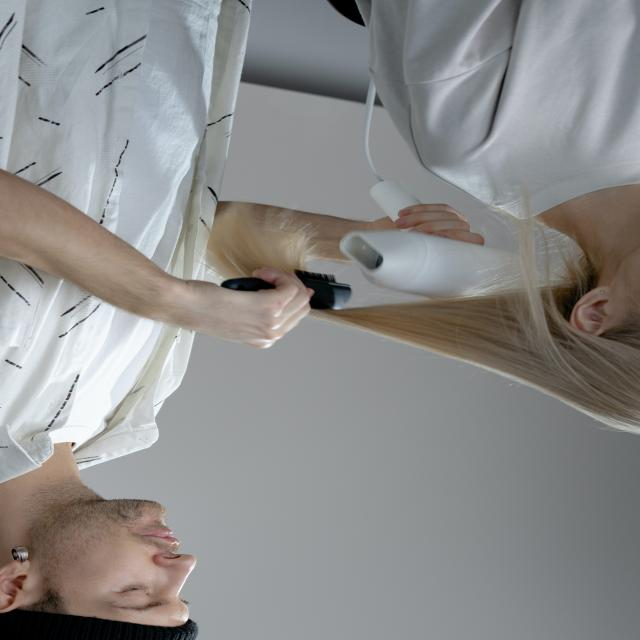dryer: (334, 177, 526, 303)
